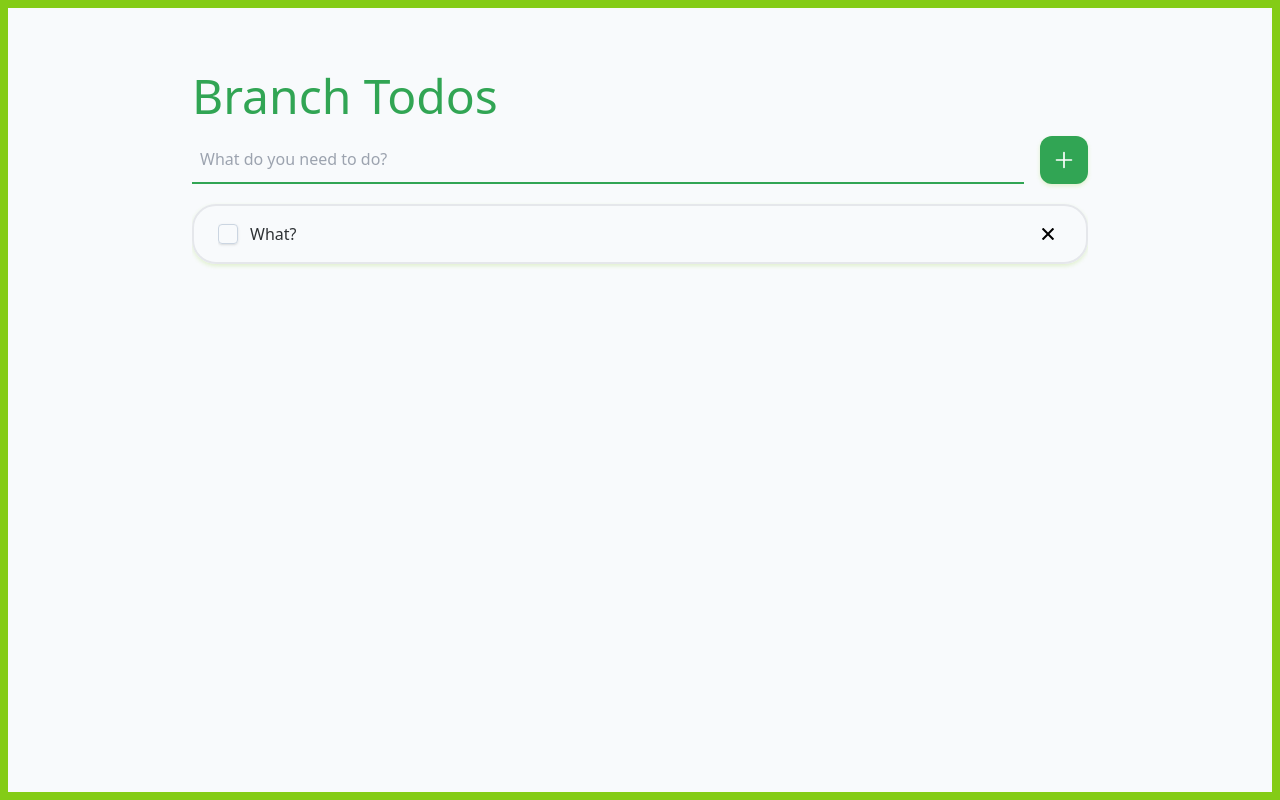
App › adds a new todo when form is submitted
Type "New Todo" into the field with test id "todo-input" at (608, 160), box [192,136,1024,184]
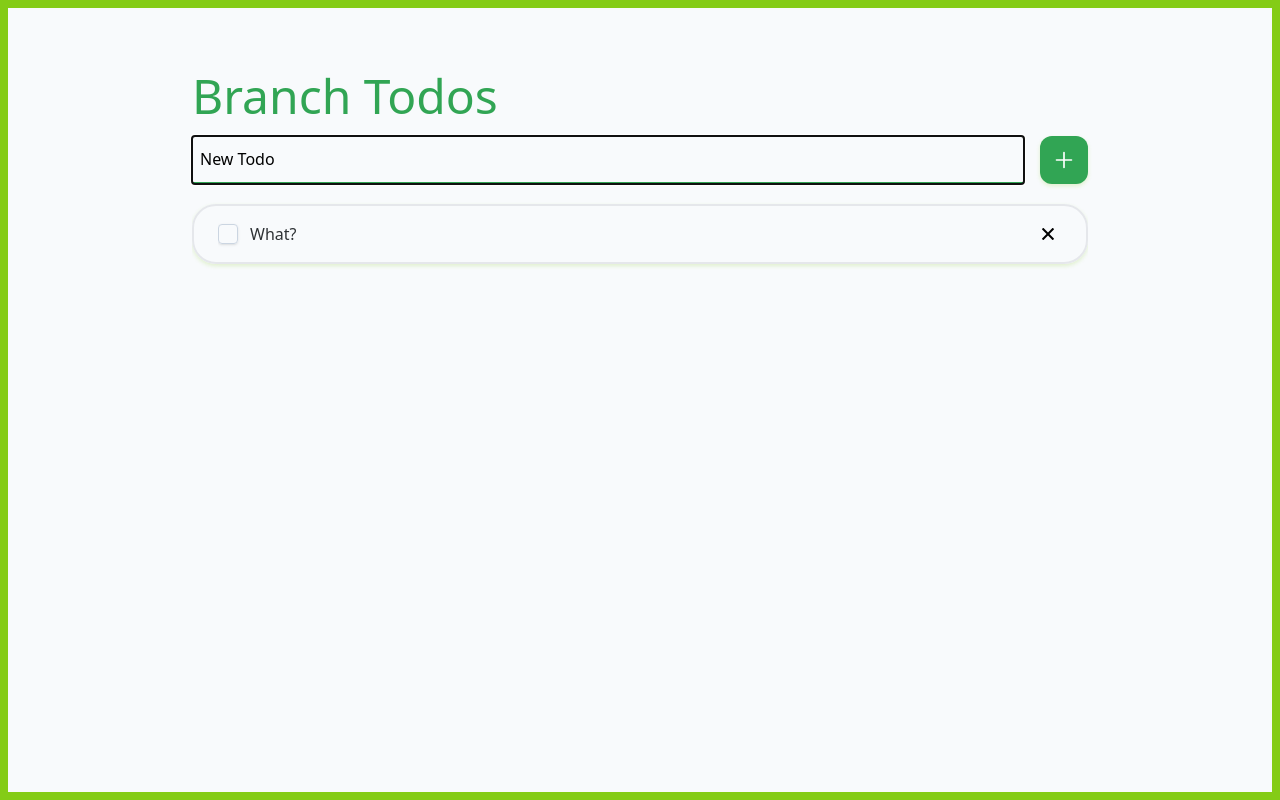
Press Enter
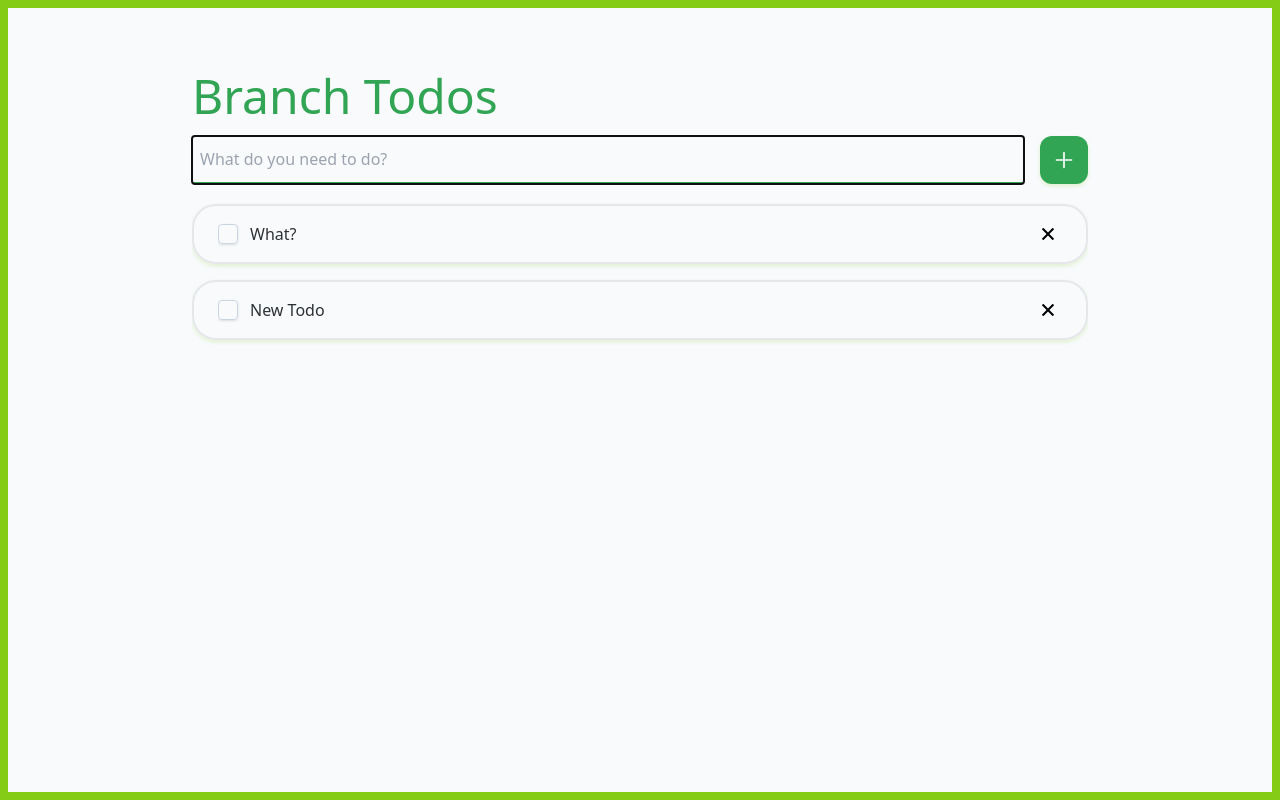
Check: the text "New Todo" is shown, box [250,298,325,322]
